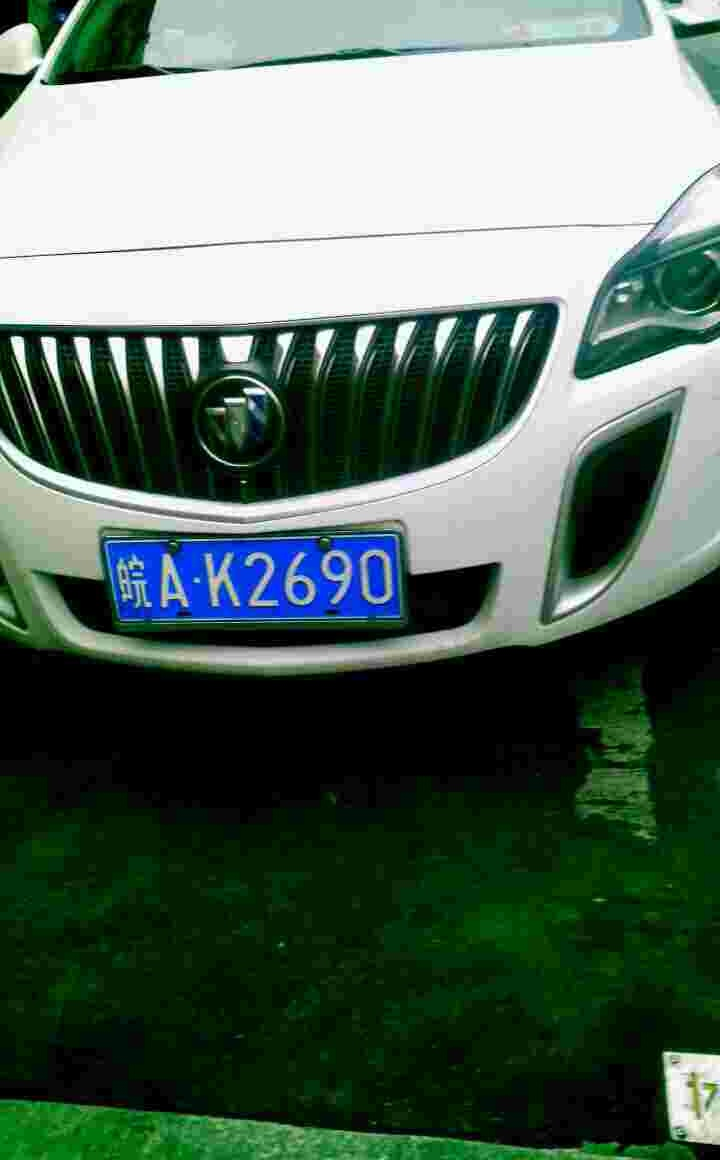license_plate: (101, 532, 401, 626)
